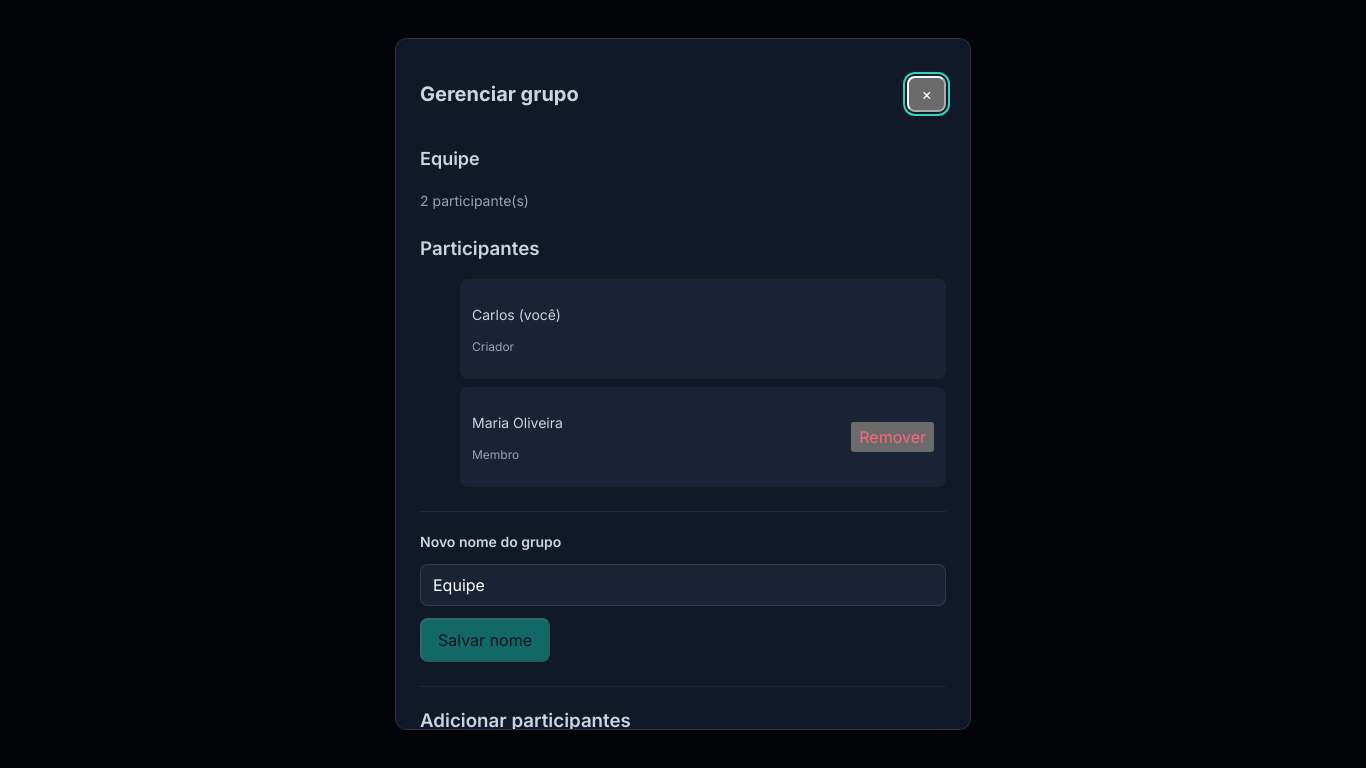
Test: deve apresentar erro de autorização da API
The image size is (1366, 768).
Replace the text in the field labelled "Novo nome do grupo" with "Outro nome": (683, 585) x1=420 y1=564 x2=946 y2=606
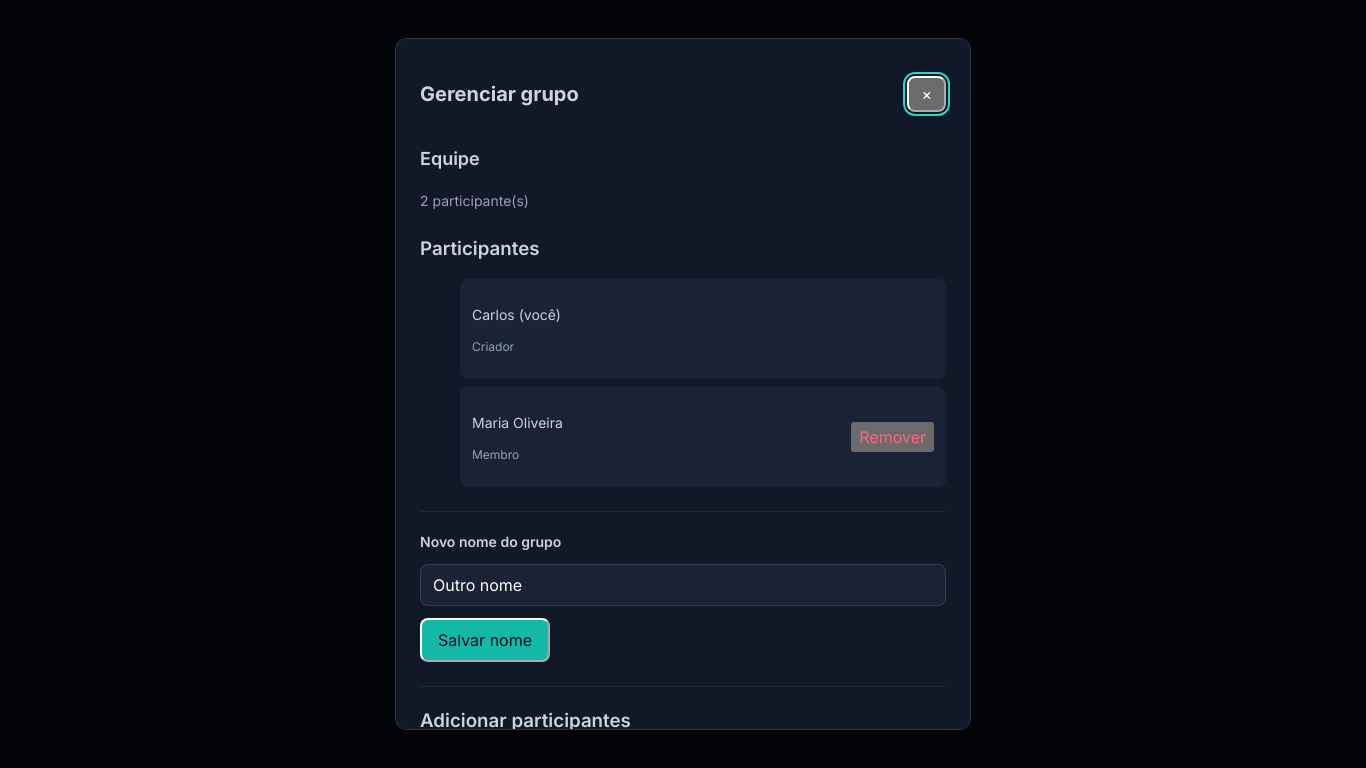
Click the button "Salvar nome": (485, 640) x1=420 y1=618 x2=550 y2=662
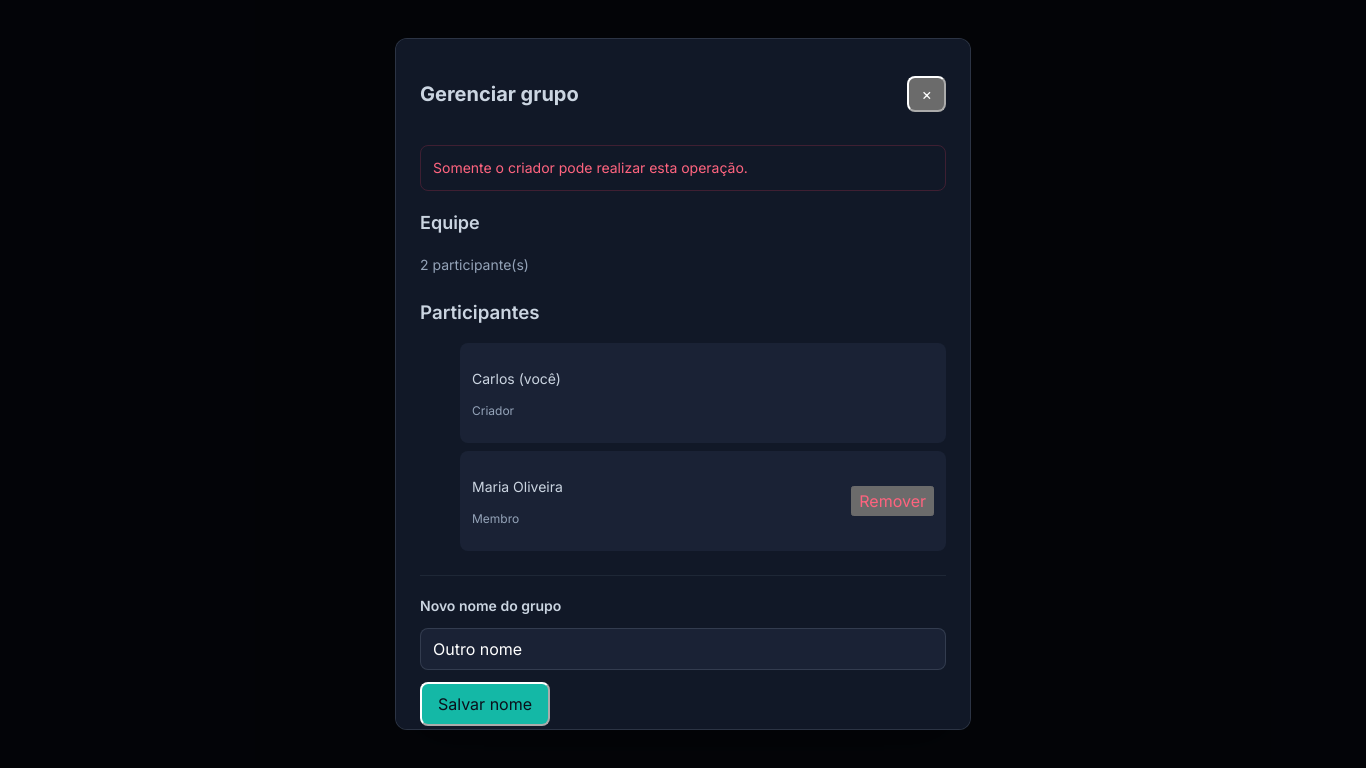
expect the message reads "Somente o criador pode realizar esta operação.": met, box x1=433 y1=159 x2=748 y2=176
